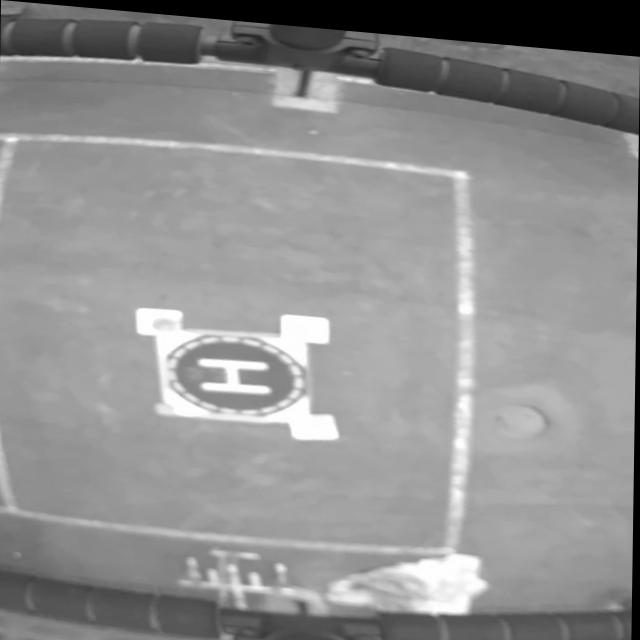Helipad: (198, 354, 273, 391)
